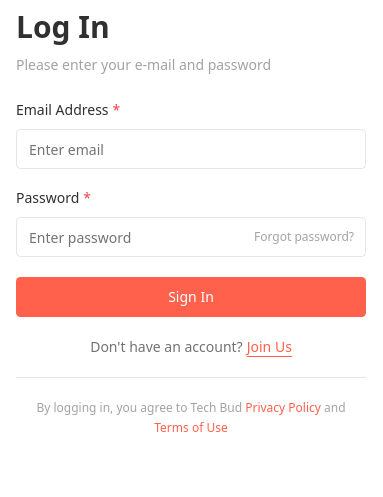
LoginForm › form validation › shows validation errors for empty fields
The width and height of the screenshot is (383, 497).
Click the button "Sign In": [191, 297] box left=16, top=277, right=366, bottom=317
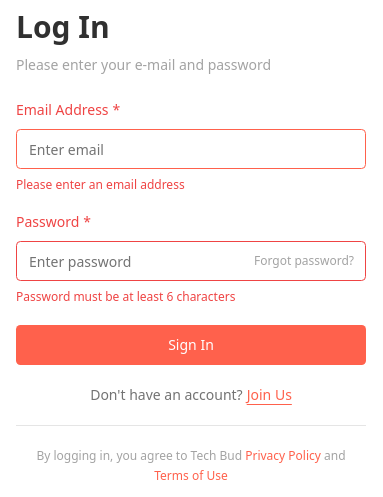
Now the text "Please enter an email address" is shown, box left=16, top=176, right=185, bottom=193
Now the text "Password must be at least 6 characters" is shown, box left=16, top=288, right=235, bottom=305
